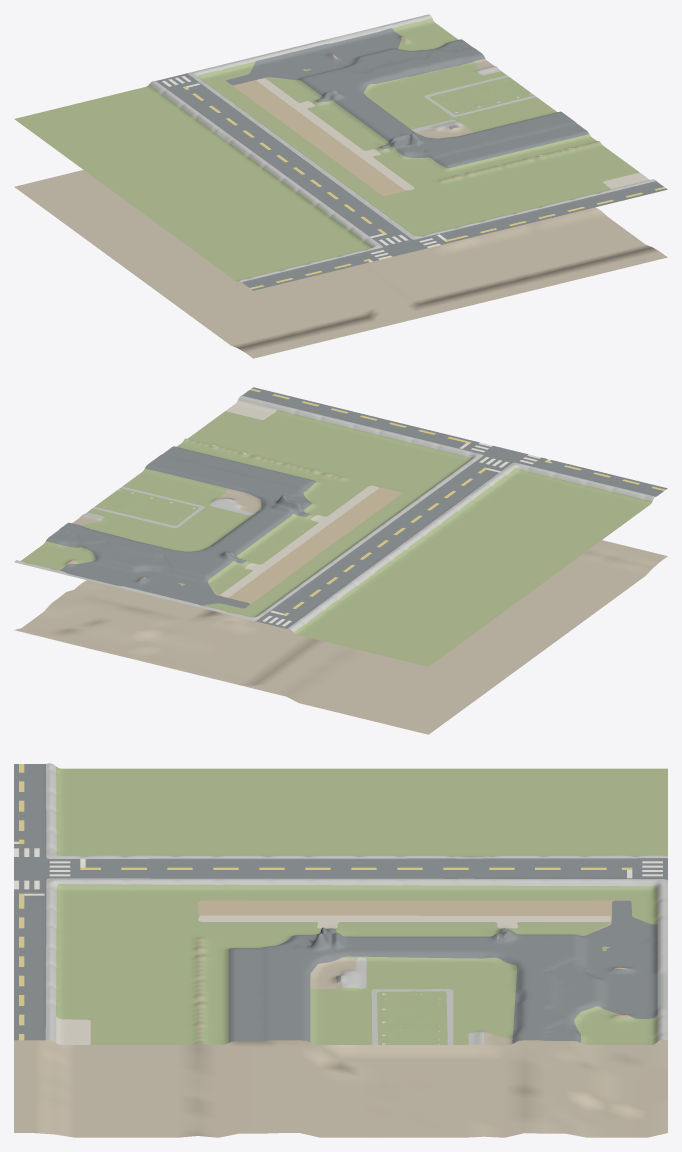
3 views of the same model, one above another, from view 1: azimuth 30°, elevation 25°; view 2: azimuth 150°, elevation 25°; view 3: azimuth 270°, elevation 25° (orthographic). The views are drawn at different scales.
Parts seen in each view (by area): view 1: s_-10_3__grass, s_-10_3__soil, s_-10_3__asphalt, s_-10_3__stone_paving, s_-10_3__timber_deck, s_-10_3__paving, s_-10_3__yellow_marking, s_-10_3__white_marking; view 2: s_-10_3__grass, s_-10_3__soil, s_-10_3__asphalt, s_-10_3__stone_paving, s_-10_3__timber_deck, s_-10_3__paving, s_-10_3__yellow_marking, s_-10_3__white_marking; view 3: s_-10_3__grass, s_-10_3__soil, s_-10_3__asphalt, s_-10_3__stone_paving, s_-10_3__timber_deck, s_-10_3__paving, s_-10_3__yellow_marking, s_-10_3__white_marking.
Boxes of the visible parts, x1=… form: s_-10_3__grass: x1=14, y1=18, x2=639, y2=281; s_-10_3__soil: x1=14, y1=59, x2=667, y2=358; s_-10_3__asphalt: x1=156, y1=28, x2=667, y2=290; s_-10_3__stone_paving: x1=149, y1=14, x2=655, y2=281; s_-10_3__timber_deck: x1=229, y1=77, x2=406, y2=195; s_-10_3__paving: x1=256, y1=78, x2=649, y2=190; s_-10_3__yellow_marking: x1=183, y1=86, x2=665, y2=289; s_-10_3__white_marking: x1=162, y1=76, x2=446, y2=262; s_-10_3__grass: x1=21, y1=410, x2=652, y2=666; s_-10_3__soil: x1=14, y1=455, x2=667, y2=734; s_-10_3__asphalt: x1=46, y1=387, x2=667, y2=628; s_-10_3__stone_paving: x1=14, y1=395, x2=655, y2=632; s_-10_3__timber_deck: x1=209, y1=487, x2=401, y2=606; s_-10_3__paving: x1=98, y1=400, x2=378, y2=597; s_-10_3__yellow_marking: x1=250, y1=388, x2=665, y2=615; s_-10_3__white_marking: x1=262, y1=442, x2=550, y2=626; s_-10_3__grass: x1=56, y1=766, x2=667, y2=1044; s_-10_3__soil: x1=14, y1=884, x2=667, y2=1137; s_-10_3__asphalt: x1=14, y1=764, x2=667, y2=1043; s_-10_3__stone_paving: x1=45, y1=763, x2=667, y2=1044; s_-10_3__timber_deck: x1=198, y1=900, x2=626, y2=934; s_-10_3__paving: x1=56, y1=915, x2=611, y2=1044; s_-10_3__yellow_marking: x1=19, y1=764, x2=632, y2=1040; s_-10_3__white_marking: x1=14, y1=841, x2=662, y2=895.
Size of the model in its own units: 128 by 23.51 by 128.
